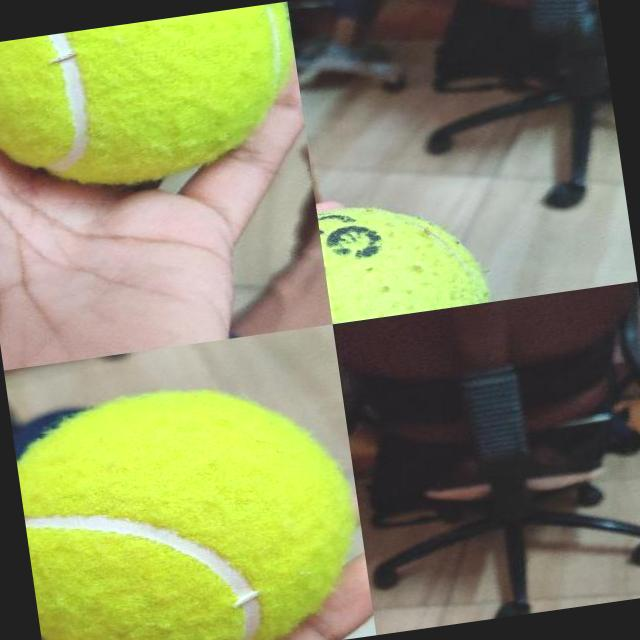Tennis Ball: (10, 367, 369, 640), (0, 2, 307, 203), (316, 188, 489, 324)
